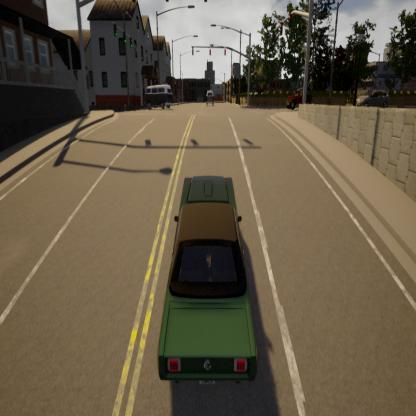Cars: (147, 168, 268, 402), (143, 82, 175, 111), (352, 87, 392, 110), (283, 87, 313, 112), (205, 87, 215, 107)
